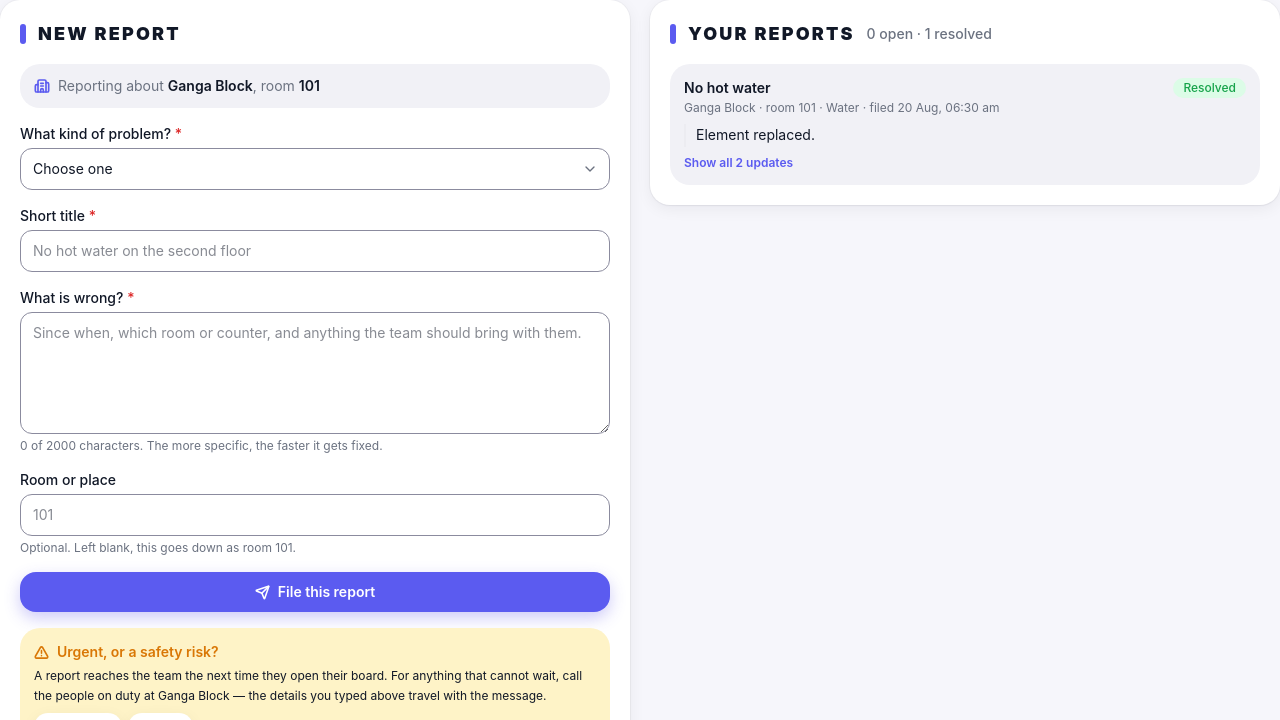
Scenario: ReportPanel › expands to the full history on request
Click the button "Show all 2 updates" at (739, 163), box [684,155,793,171]
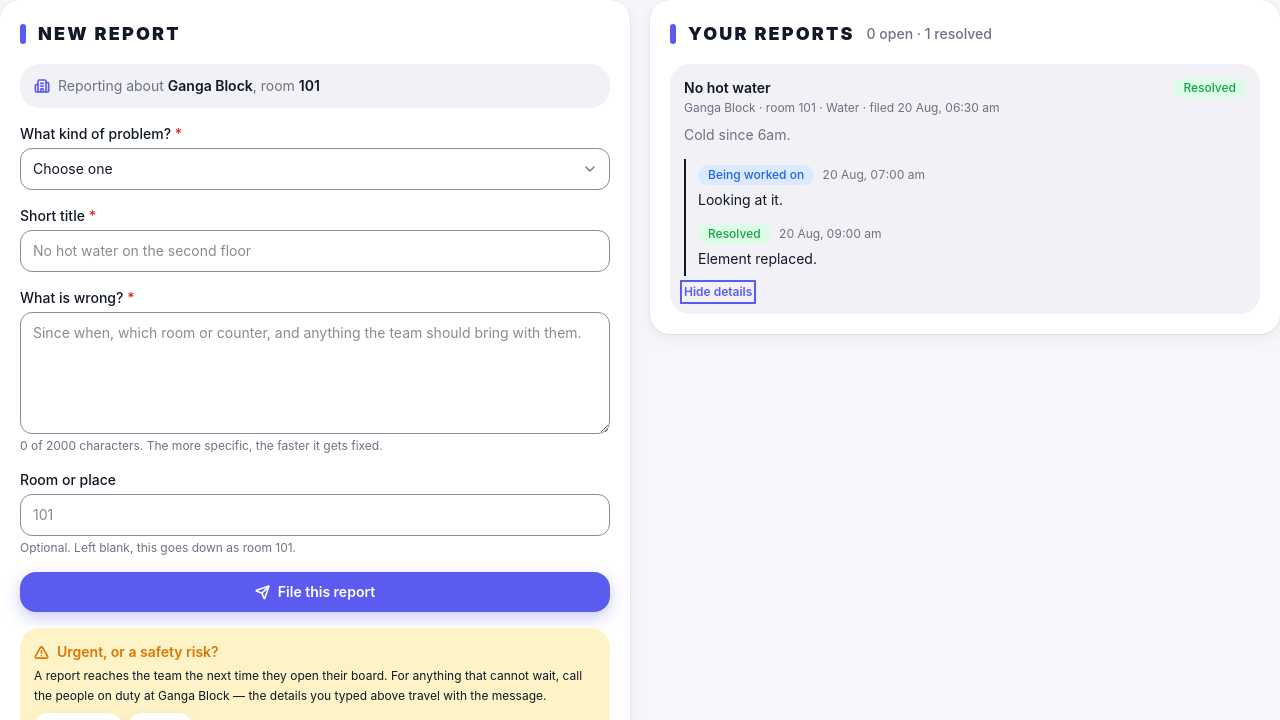
Expected: the text "Element replaced." is shown, [698,250,817,266]
Expected: the text "Looking at it." is shown, [698,191,783,208]
